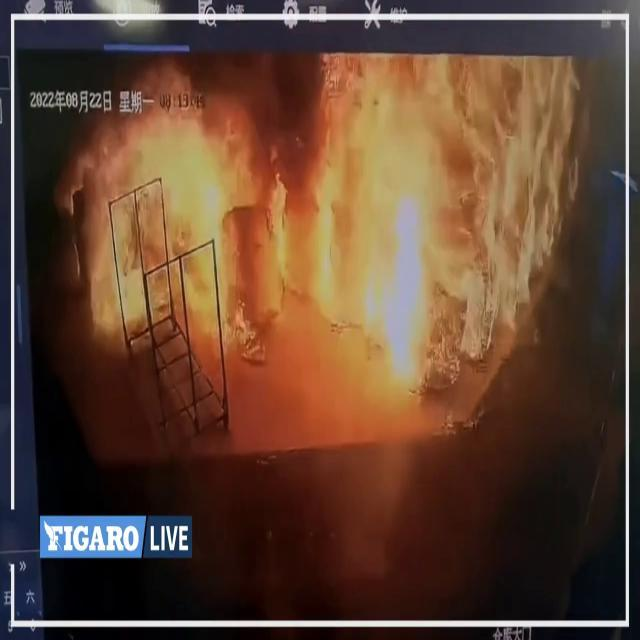Fire: (64, 62, 596, 412)
